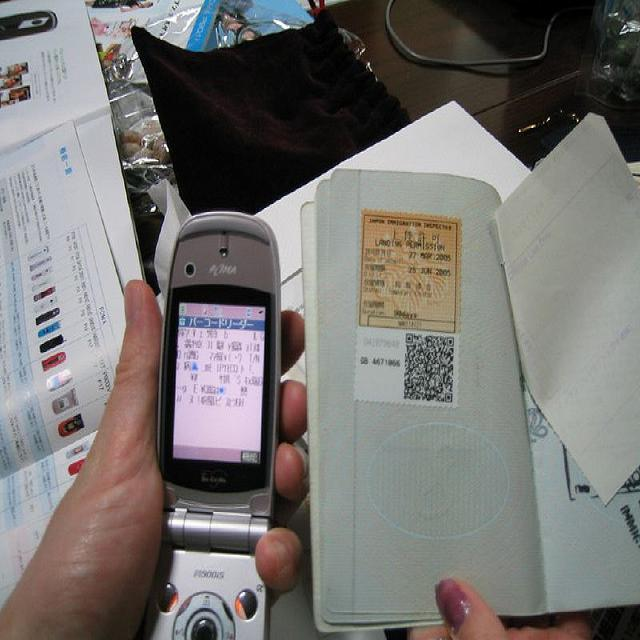qr_code: (404, 333, 454, 403)
